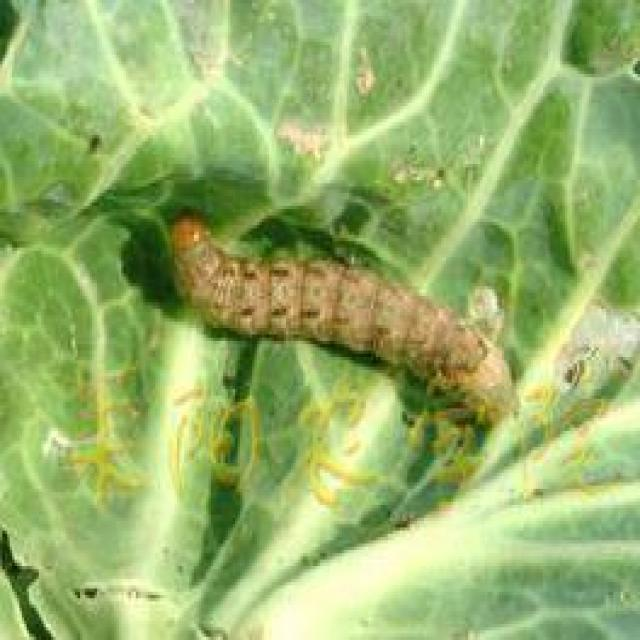armyworm: (167, 198, 510, 423)
